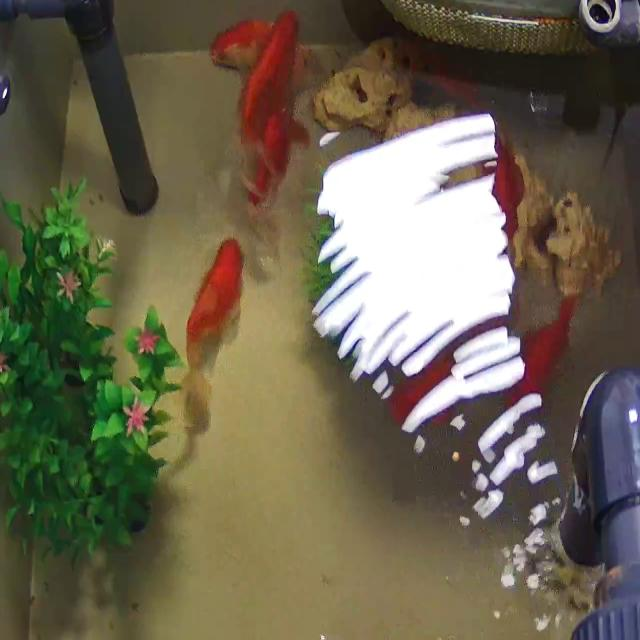fish: (493, 270, 591, 425), (178, 236, 244, 437), (459, 85, 534, 248), (239, 6, 302, 148), (248, 115, 309, 226), (201, 5, 304, 69)
